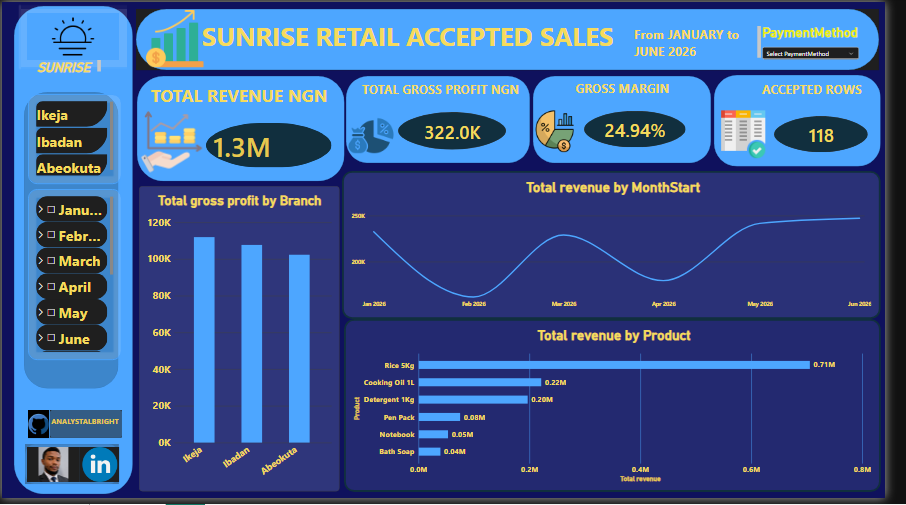

Layout of this report page (visuals, bound fields, positions):
{"tool":"powerbi","page":{"name":"Page 1","canvas":[1920,1080],"ordinal":0},"visuals":[{"type":"shape","box":[25,8.3,258.3,1061.1],"z":0,"group":"g19"},{"type":"shape","box":[289.1,15.2,1615.2,132.6],"z":1,"group":"g20"},{"type":"shape","box":[291,159.7,451.1,228.9],"z":2,"group":"g5"},{"type":"shape","box":[1551.7,160,357.5,196.5],"z":3,"group":"g3"},{"type":"shape","box":[1153.7,159.5,386.7,189.4],"z":4,"group":"g2"},{"type":"shape","box":[746,161,399.7,189.2],"z":5,"group":"g1"},{"type":"textbox","box":[416,34.7,929.1,85],"z":6,"group":"g20"},{"type":"image","box":[52.3,21.7,200,101.6],"z":7,"group":"g15"},{"type":"image","box":[295.6,233.5,142.2,137.8],"z":8,"group":"g5"},{"type":"image","box":[746.5,221,108.9,140],"z":10,"group":"g1"},{"type":"textbox","box":[280.5,177.2,455,99.9],"z":11,"group":"g5"},{"type":"image","box":[1146.8,231.3,107.5,97.3],"z":12,"group":"g2"},{"type":"image","box":[211.1,16.6,325,125],"z":13,"group":"g20"},{"type":"image","box":[1544.4,219.8,138.4,126.7],"z":14,"group":"g3"},{"type":"group","id":"g1","title":"Group 2","box":[746,161,399.7,200],"z":16,"group":"g10"},{"type":"group","id":"g2","title":"Group 3","box":[1146.8,159.5,393.6,189.4],"z":17,"group":"g9"},{"type":"group","id":"g3","title":"Group 4","box":[1544.4,160,364.8,196.5],"z":18,"group":"g8"},{"type":"textbox","box":[780,171.1,375.6,75.6],"z":19,"group":"g10"},{"type":"textbox","box":[1177.5,167.9,340.4,49.8],"z":20,"group":"g9"},{"type":"textbox","box":[1653.9,173.2,229.3,80.6],"z":21,"group":"g8"},{"type":"group","id":"g4","title":"Group 5","box":[1146.8,159.5,393.6,189.4],"z":22,"group":"g7"},{"type":"actionButton","box":[102.6,886.9,156.5,59.7],"z":24,"group":"g14"},{"type":"group","id":"g5","title":"Group 1","box":[280.5,159.7,461.6,228.9],"z":25,"group":"g11"},{"type":"cardVisual","fields":{"Data":["sales.Total revenue"]},"box":[442.2,262.4,273.3,97.8],"z":26,"group":"g11"},{"type":"group","id":"g6","title":"Group 6","box":[280.5,159.7,461.6,228.9],"z":27,"group":"g21"},{"type":"textbox","box":[1372.7,51.7,276.4,78.7],"z":28,"group":"g20"},{"type":"cardVisual","fields":{"Data":["sales.Total gross profit"]},"box":[860,240,235.6,82.2],"z":29,"group":"g10"},{"type":"cardVisual","fields":{"Data":["sales.Gross margin"]},"box":[1265,235.3,221.7,79.2],"z":30,"group":"g7"},{"type":"cardVisual","fields":{"Data":["sales.Accepted rows"]},"box":[1680.1,247.7,202,78.9],"z":31,"group":"g8"},{"type":"image","box":[55.5,886.3,46.4,60.7],"z":33,"group":"g14"},{"type":"clusteredBarChart","fields":{"Category":["sales.Product"],"Y":["sales.Total revenue"]},"box":[742.2,688.9,1166.7,375.6],"z":34,"group":"g21"},{"type":"shape","box":[46.7,194.1,205.4,644.6],"z":35,"group":"g17"},{"type":"lineChart","title":"Total revenue by Month","fields":{"Category":["sales.MonthStart"],"Y":["sales.Total revenue"]},"box":[737.8,366.6,1171.1,322.2],"z":36,"group":"g21"},{"type":"group","id":"g7","title":"Group 7","box":[1146.8,159.5,393.6,189.4],"z":37,"group":"g21"},{"type":"group","id":"g8","title":"Group 8","box":[1544.4,160,364.4,197.8],"z":38,"group":"g21"},{"type":"group","id":"g9","title":"Group 9","box":[1146.8,159.5,393.6,189.4],"z":39,"group":"g4"},{"type":"group","id":"g10","title":"Group 10","box":[746,161,409.6,200],"z":39,"group":"g21"},{"type":"group","id":"g11","title":"Group 11","box":[280.5,159.7,461.6,228.9],"z":40,"group":"g6"},{"type":"clusteredColumnChart","fields":{"Category":["sales.Branch"],"Y":["sales.Total gross profit"]},"box":[295.7,400,436.2,663.8],"z":40,"group":"g21"},{"type":"listSlicer","fields":{"Values":["sales.Branch"]},"box":[54.4,199.1,204.3,195.7],"z":41,"group":"g16"},{"type":"listSlicer","fields":{"Values":["sales.MonthStart.Variation.Date Hierarchy.Month","sales.MonthStart.Variation.Date Hierarchy.Day"]},"box":[54.4,405.2,204.1,372],"z":42,"group":"g16"},{"type":"shape","box":[50,961.1,204.1,87.2],"z":43,"group":"g12"},{"type":"image","box":[53.4,967,114.8,76],"z":44,"group":"g12"},{"type":"group","id":"g12","title":"Group 12","box":[50,961.1,204.1,87.2],"z":45,"group":"g13"},{"type":"image","box":[169.1,966.7,85,76],"z":46,"group":"g13"},{"type":"listSlicer","fields":{"Values":["sales.PaymentMethod"]},"box":[1634.2,34.7,242.4,95.7],"z":47,"group":"g20"},{"type":"group","id":"g13","title":"Group 13","box":[50,961.1,202.8,86.1],"z":48,"group":"g19"},{"type":"textbox","box":[101.6,880.6,156.5,50],"z":49,"group":"g14"},{"type":"textbox","box":[74.9,123.3,138.7,29],"z":50,"group":"g15"},{"type":"group","id":"g14","title":"Group 14","box":[55.5,880.6,202.8,66.7],"z":51,"group":"g18"},{"type":"group","id":"g15","title":"Group 15","box":[52.3,21.7,200,130.6],"z":52,"group":"g18"},{"type":"group","id":"g16","title":"Group 16","box":[54.4,199.1,204.3,578.1],"z":53,"group":"g17"},{"type":"group","id":"g17","title":"Group 17","box":[46.7,194.1,212,644.6],"z":54,"group":"g18"},{"type":"group","id":"g18","title":"Group 18","box":[46.7,21.7,212,925.5],"z":55,"group":"g19"},{"type":"group","id":"g19","title":"Group 19","box":[25,8.3,258.3,1061.1],"z":56,"group":"g21"},{"type":"group","id":"g20","title":"Group 20","box":[211.1,15.2,1693.2,132.6],"z":57,"group":"g21"},{"type":"group","id":"g21","title":"Group 21","box":[25,8.3,1883.9,1061.1],"z":58}]}

Visuals, with their boxes in screenshot pixels (x1, y1, x2, y2), scaled from the page's 1920x1080 canvas onto the 906x505 screenshot:
shape: x1=12 y1=4 x2=134 y2=500
shape: x1=136 y1=7 x2=899 y2=69
shape: x1=137 y1=75 x2=350 y2=182
shape: x1=732 y1=75 x2=901 y2=167
shape: x1=544 y1=75 x2=727 y2=163
shape: x1=352 y1=75 x2=541 y2=164
textbox: x1=196 y1=16 x2=635 y2=56
image: x1=25 y1=10 x2=119 y2=58
image: x1=139 y1=109 x2=207 y2=174
image: x1=352 y1=103 x2=404 y2=169
textbox: x1=132 y1=83 x2=347 y2=130
image: x1=541 y1=108 x2=592 y2=154
image: x1=100 y1=8 x2=253 y2=66
image: x1=729 y1=103 x2=794 y2=162
"Group 2" group: x1=352 y1=75 x2=541 y2=169
"Group 3" group: x1=541 y1=75 x2=727 y2=163
"Group 4" group: x1=729 y1=75 x2=901 y2=167
textbox: x1=368 y1=80 x2=545 y2=115
textbox: x1=556 y1=79 x2=716 y2=102
textbox: x1=780 y1=81 x2=889 y2=119
"Group 5" group: x1=541 y1=75 x2=727 y2=163
actionButton: x1=48 y1=415 x2=122 y2=443
"Group 1" group: x1=132 y1=75 x2=350 y2=182
cardVisual - sales.Total revenue: x1=209 y1=123 x2=338 y2=168
"Group 6" group: x1=132 y1=75 x2=350 y2=182
textbox: x1=648 y1=24 x2=778 y2=61
cardVisual - sales.Total gross profit: x1=406 y1=112 x2=517 y2=151
cardVisual - sales.Gross margin: x1=597 y1=110 x2=702 y2=147
cardVisual - sales.Accepted rows: x1=793 y1=116 x2=888 y2=153
image: x1=26 y1=414 x2=48 y2=443
clusteredBarChart - sales.Product x sales.Total revenue: x1=350 y1=322 x2=901 y2=498
shape: x1=22 y1=91 x2=119 y2=392
"Total revenue by Month" lineChart: x1=348 y1=171 x2=901 y2=322
"Group 7" group: x1=541 y1=75 x2=727 y2=163
"Group 8" group: x1=729 y1=75 x2=901 y2=167
"Group 9" group: x1=541 y1=75 x2=727 y2=163
"Group 10" group: x1=352 y1=75 x2=545 y2=169
"Group 11" group: x1=132 y1=75 x2=350 y2=182
clusteredColumnChart - sales.Branch x sales.Total gross profit: x1=140 y1=187 x2=345 y2=497
listSlicer - sales.Branch: x1=26 y1=93 x2=122 y2=185
listSlicer - sales.MonthStart.Variation.Date Hierarchy.Month x sales.MonthStart.Variation.Date Hierarchy.Day: x1=26 y1=189 x2=122 y2=363
shape: x1=24 y1=449 x2=120 y2=490
image: x1=25 y1=452 x2=79 y2=488
"Group 12" group: x1=24 y1=449 x2=120 y2=490
image: x1=80 y1=452 x2=120 y2=488
listSlicer - sales.PaymentMethod: x1=771 y1=16 x2=886 y2=61
"Group 13" group: x1=24 y1=449 x2=119 y2=490
textbox: x1=48 y1=412 x2=122 y2=435
textbox: x1=35 y1=58 x2=101 y2=71
"Group 14" group: x1=26 y1=412 x2=122 y2=443
"Group 15" group: x1=25 y1=10 x2=119 y2=71
"Group 16" group: x1=26 y1=93 x2=122 y2=363
"Group 17" group: x1=22 y1=91 x2=122 y2=392
"Group 18" group: x1=22 y1=10 x2=122 y2=443
"Group 19" group: x1=12 y1=4 x2=134 y2=500
"Group 20" group: x1=100 y1=7 x2=899 y2=69
"Group 21" group: x1=12 y1=4 x2=901 y2=500
